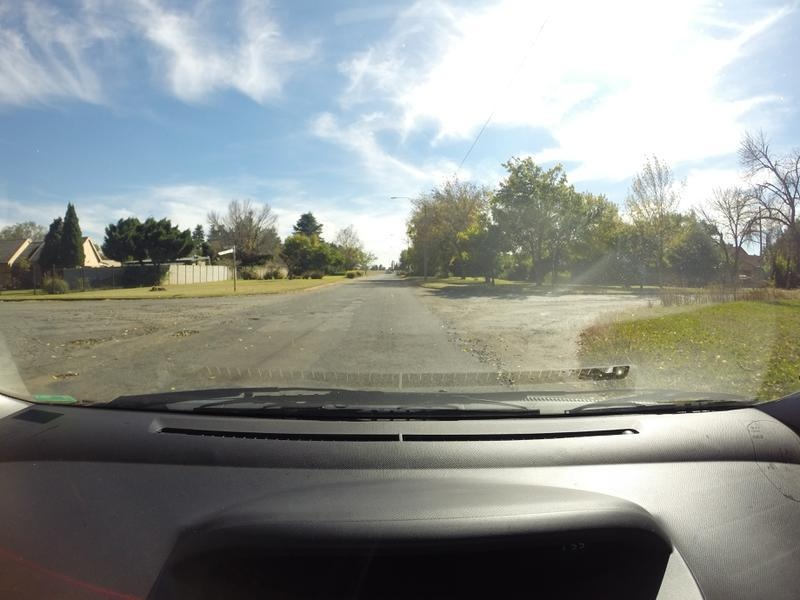pothole: (53, 331, 96, 351), (158, 325, 201, 341), (48, 367, 82, 383)
